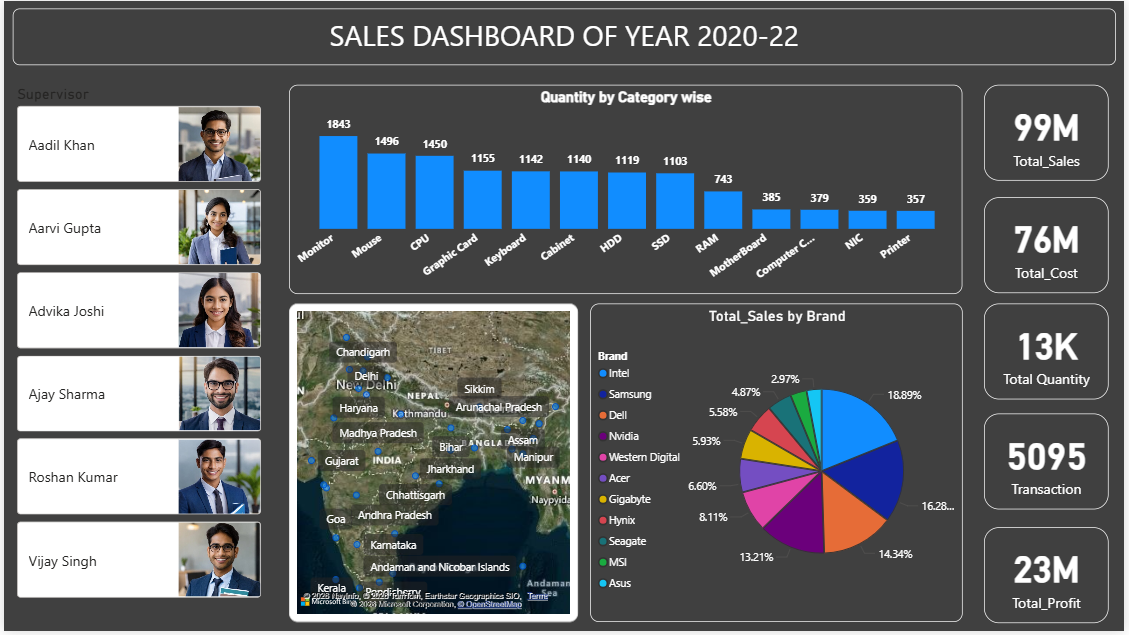

What the dashboard file says about the page in this screenshot:
{"tool":"powerbi","page":{"name":"Page 1","canvas":[1280,720],"ordinal":0},"visuals":[{"type":"textbox","box":[9.7,8.4,1260.7,65.1],"z":0},{"type":"card","fields":{"Values":["Sum(Sales_Data.Total_Sales)"]},"box":[1119.6,95.3,142.4,109.8],"z":1000},{"type":"card","fields":{"Values":["Sum(Sales_Data.Total_Cost)"]},"box":[1119.6,224.4,142.4,109.8],"z":2000},{"type":"card","fields":{"Values":["Sum(Sales_Data.Quantity)"]},"box":[1119.6,346.2,142.4,109.8],"z":3000},{"type":"card","fields":{"Values":["CountNonNull(Sales_Data.Order_Number)"]},"box":[1119.6,471.7,142.4,109.8],"z":4000},{"type":"card","fields":{"Values":["Sum(Sales_Data.Total_Profit)"]},"box":[1119.6,600.8,142.4,109.8],"z":5000},{"type":"columnChart","title":"Quantity by Category wise","fields":{"Category":["Sales_Data.Category"],"Y":["Sum(Sales_Data.Quantity)"]},"box":[325.7,95.3,769.7,238.9],"z":6000},{"type":"pieChart","title":"Total_Sales by Brand","fields":{"Category":["Sales_Data.Brand"],"Y":["Sum(Sales_Data.Total_Sales)"]},"box":[669.6,346.2,425.9,364.3],"z":7000},{"type":"map","fields":{"Category":["State_list.State"]},"box":[325.7,346.2,330.6,364.3],"z":8000},{"type":"advancedSlicerVisual","fields":{"Values":["Supervisor.Supervisor"]},"box":[9.7,95.3,289.5,597.2],"z":9000}]}

Visuals, with their boxes in screenshot pixels (x1, y1, x2, y2), scaled from the page's 1280x720 canvas onto the 1129x635 screenshot:
textbox: [9, 7, 1121, 65]
card - Sum(Sales_Data.Total_Sales): [988, 84, 1113, 181]
card - Sum(Sales_Data.Total_Cost): [988, 198, 1113, 295]
card - Sum(Sales_Data.Quantity): [988, 305, 1113, 402]
card - CountNonNull(Sales_Data.Order_Number): [988, 416, 1113, 513]
card - Sum(Sales_Data.Total_Profit): [988, 530, 1113, 627]
"Quantity by Category wise" columnChart: [287, 84, 966, 295]
"Total_Sales by Brand" pieChart: [591, 305, 966, 627]
map - State_list.State: [287, 305, 579, 627]
advancedSlicerVisual - Supervisor.Supervisor: [9, 84, 264, 611]
